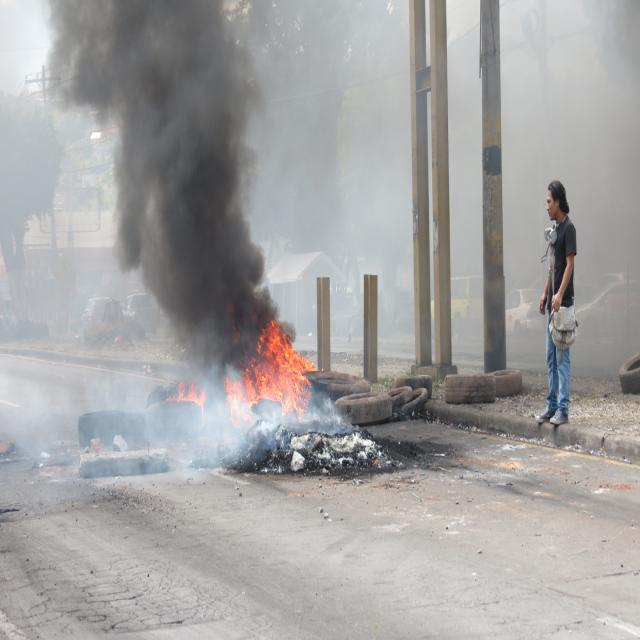fire: (254, 330, 312, 413)
smoke: (108, 21, 250, 311), (276, 18, 398, 266), (18, 373, 154, 462)
